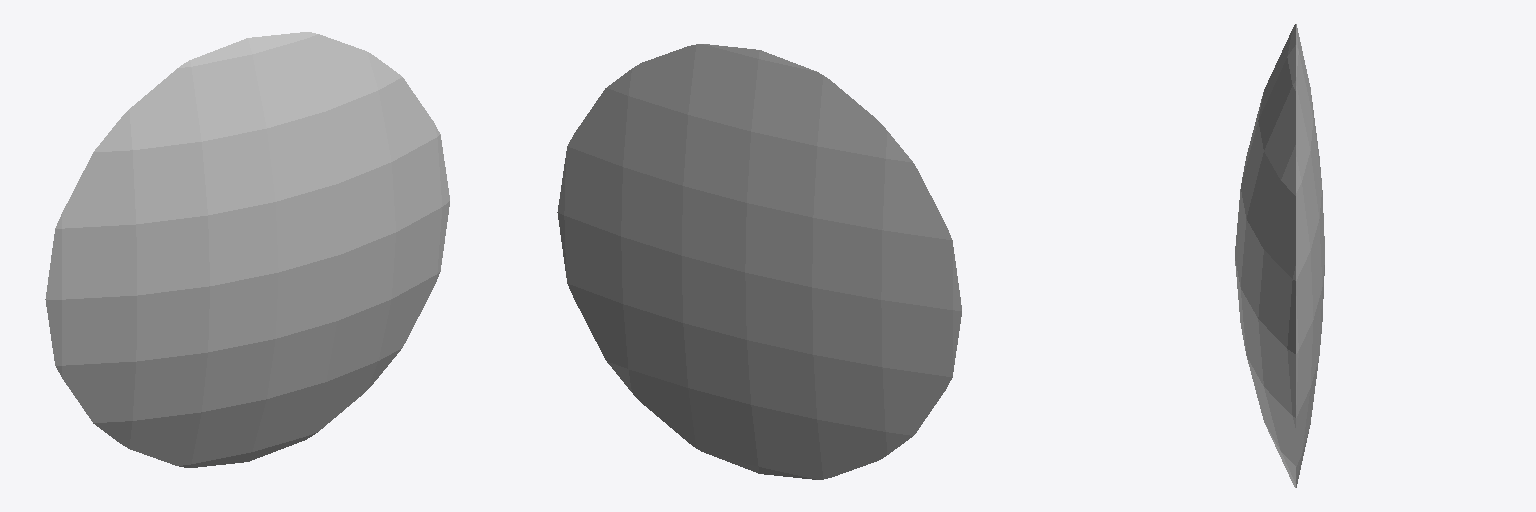
The model's file is Lens 2m 1m.obj.
3 renders of one model, left to right at view 1: azimuth 30°, elevation 25°; view 2: azimuth 150°, elevation 25°; view 3: azimuth 270°, elevation 25°, orthographic.
Parts seen in each view (by area): view 1: Sphere; view 2: Sphere; view 3: Sphere.
Part boxes in pixels (left/top/right/bottom): Sphere: left=45, top=32, right=449, bottom=467; Sphere: left=557, top=44, right=961, bottom=479; Sphere: left=1235, top=24, right=1324, bottom=487.
Size of the model in its own units: 0.9675 by 0.9684 by 0.1877.